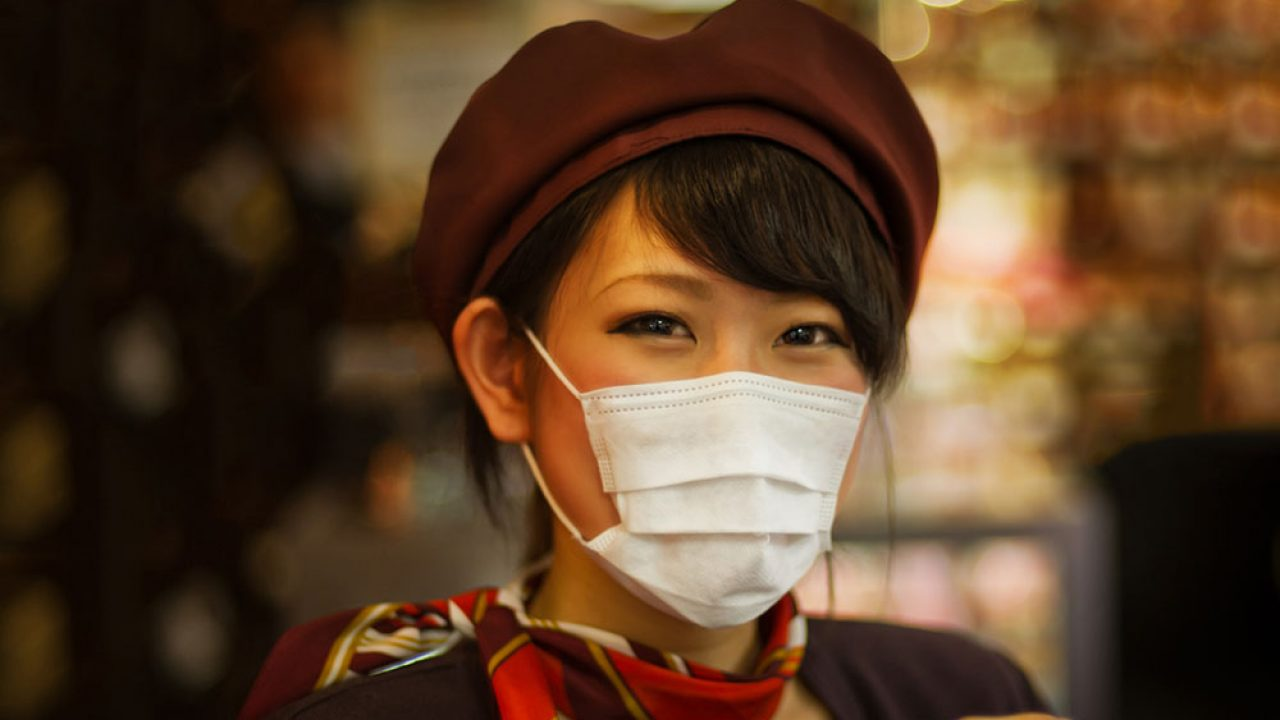surgical: (551, 352, 887, 633)
